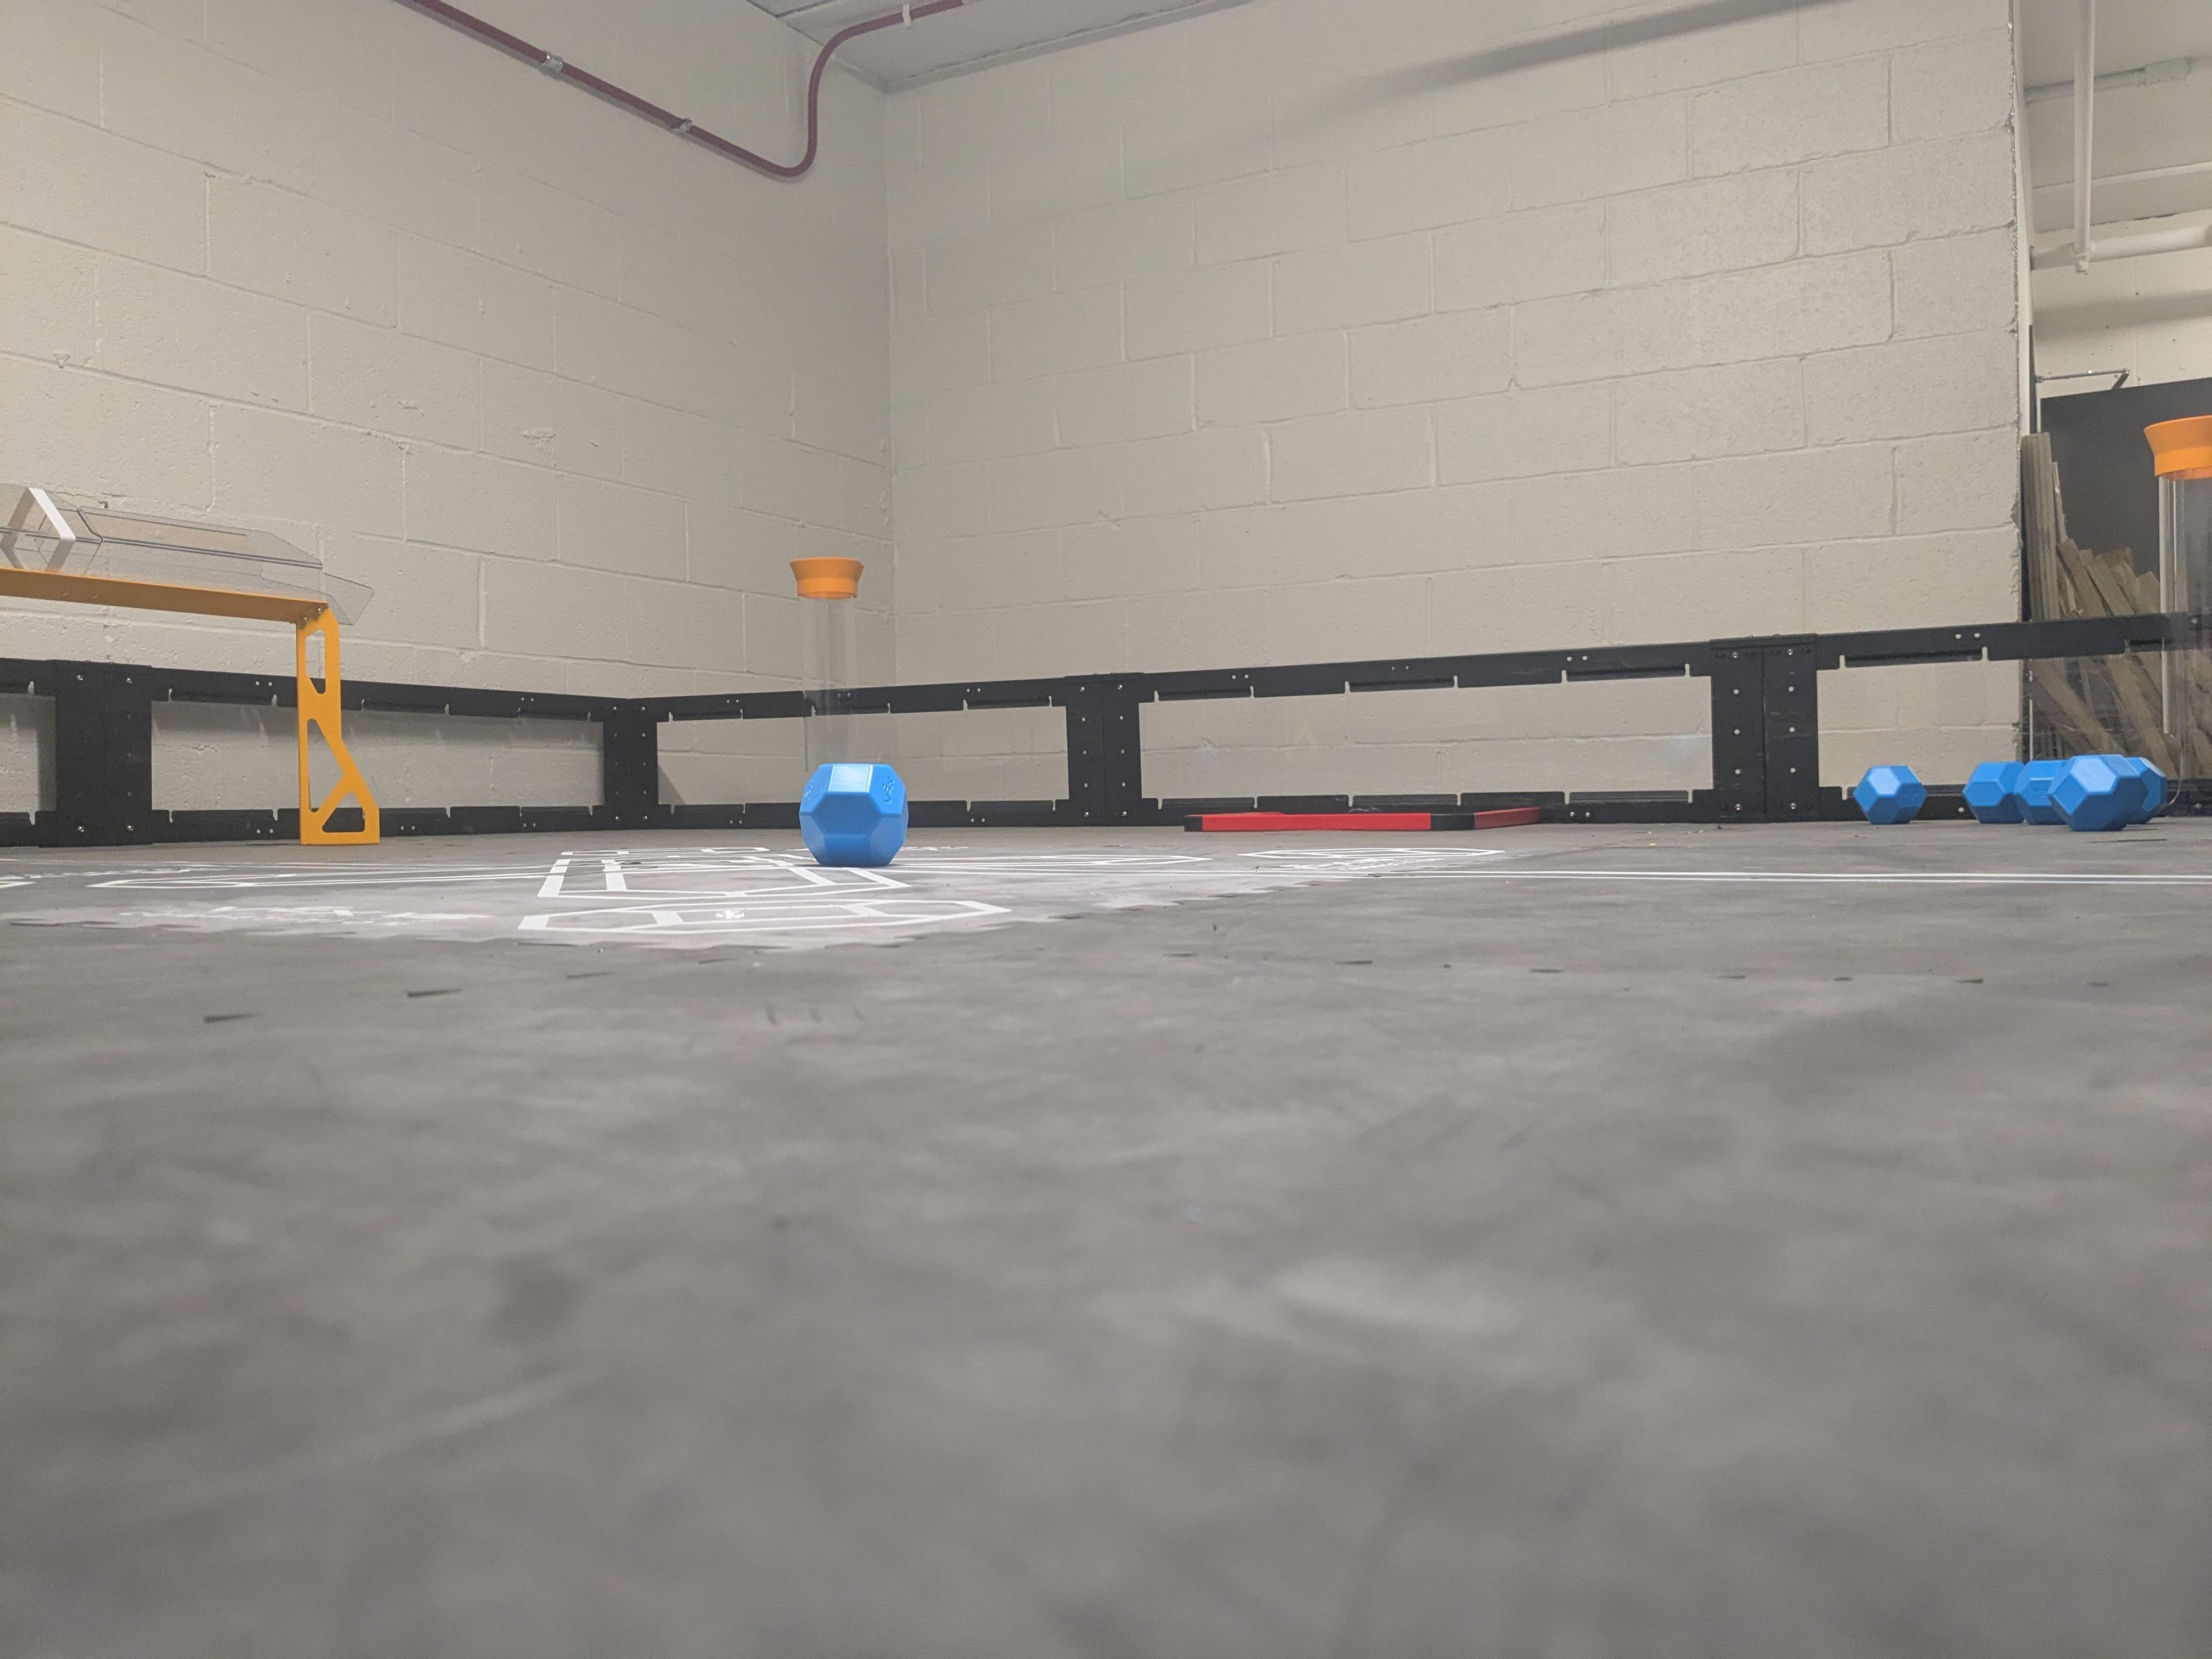Vex-Pieces-BLUE: (801, 765, 907, 868), (2048, 756, 2139, 831), (1853, 765, 1926, 824), (1963, 763, 2026, 823), (2017, 762, 2067, 824), (2125, 758, 2167, 821)
